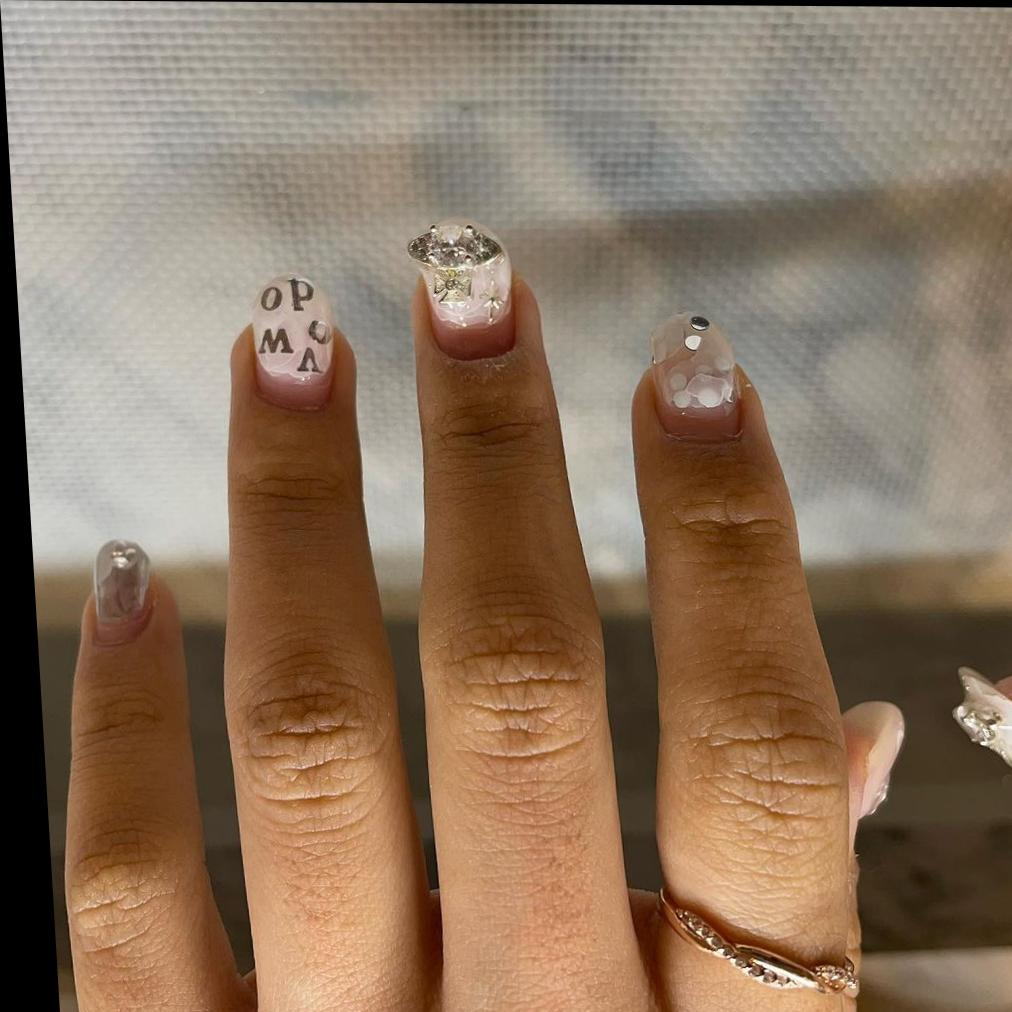nail: (406, 219, 521, 363), (646, 313, 749, 445), (247, 276, 341, 414), (841, 700, 912, 823), (949, 666, 1012, 790), (92, 540, 156, 625)
